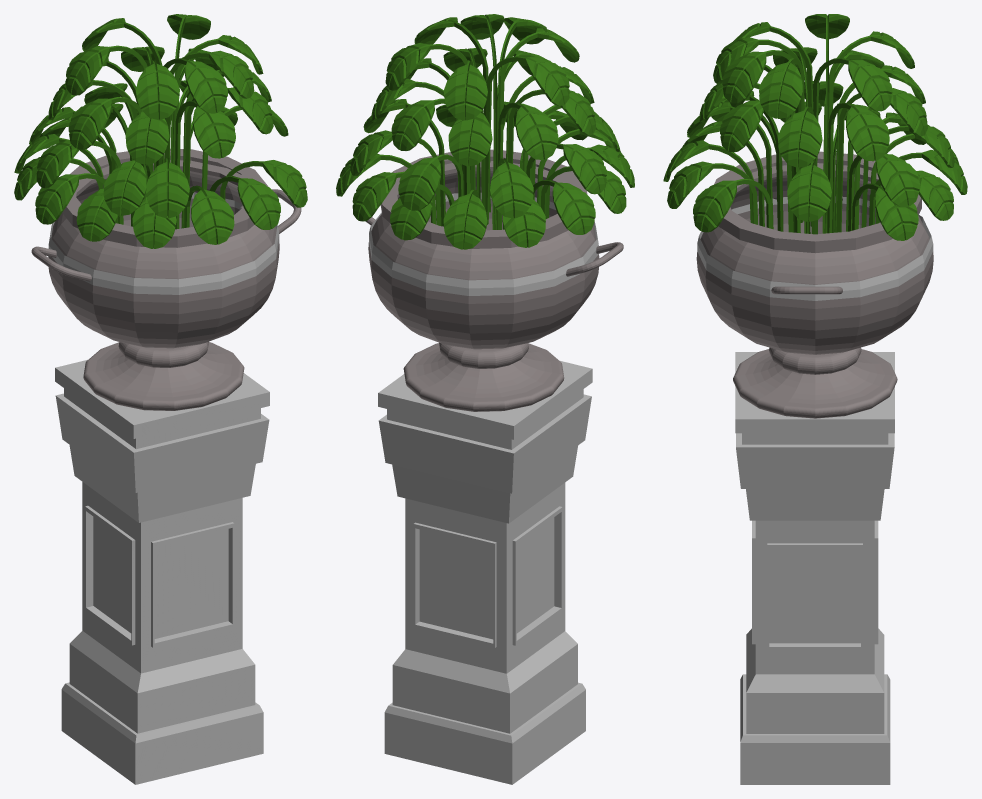
Rendered from detailB.fbx.
3 views of the same model, side by side, from view 1: azimuth 30°, elevation 25°; view 2: azimuth 150°, elevation 25°; view 3: azimuth 270°, elevation 25° (orthographic).
Parts seen in each view (by area): view 1: polySurface2, polySurface1; view 2: polySurface2, polySurface1; view 3: polySurface2, polySurface1.
Part boxes in pixels (<box>): polySurface2: <box>14,14,307,784</box>; polySurface1: <box>48,148,279,410</box>; polySurface2: <box>336,14,634,784</box>; polySurface1: <box>368,149,599,411</box>; polySurface2: <box>663,14,967,784</box>; polySurface1: <box>696,151,933,418</box>.
Size of the model in its own units: 99.25 by 261 by 101.
